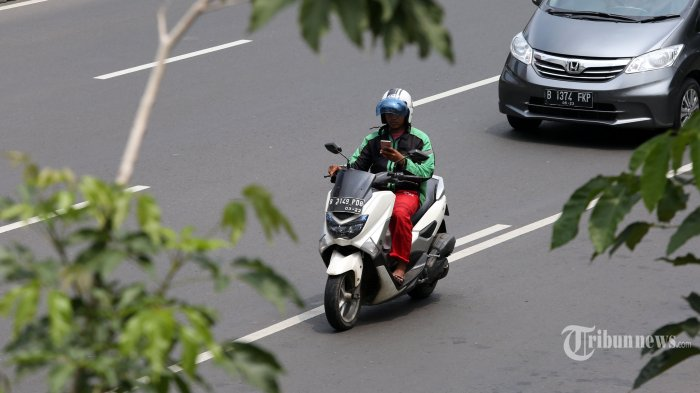car: (493, 1, 700, 133)
motorbike: (317, 83, 459, 336)
